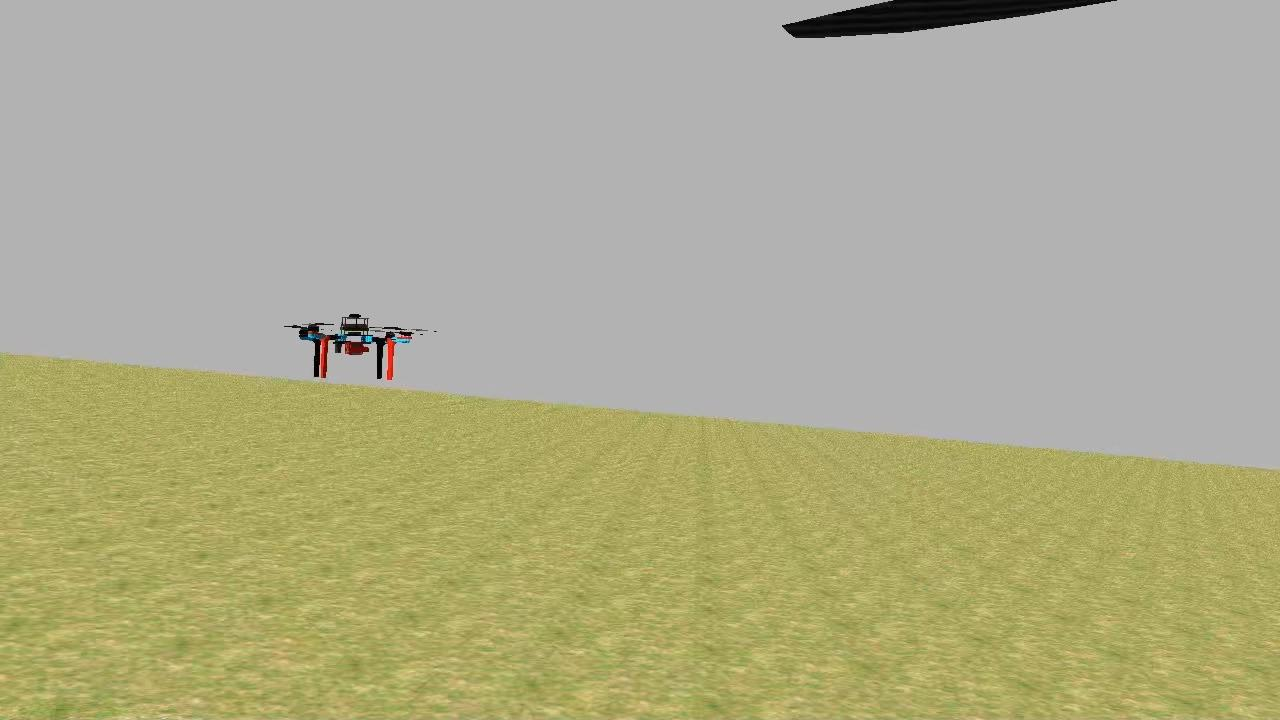UAV: (292, 308, 420, 388)
